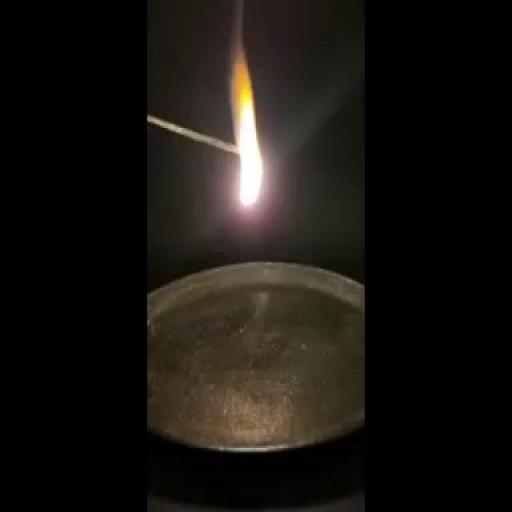smoke: (230, 80, 271, 217)
